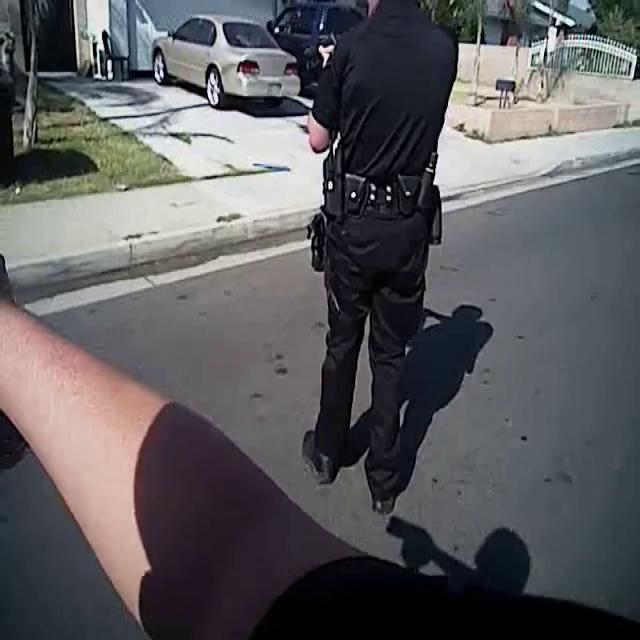gun: (289, 28, 353, 87)
